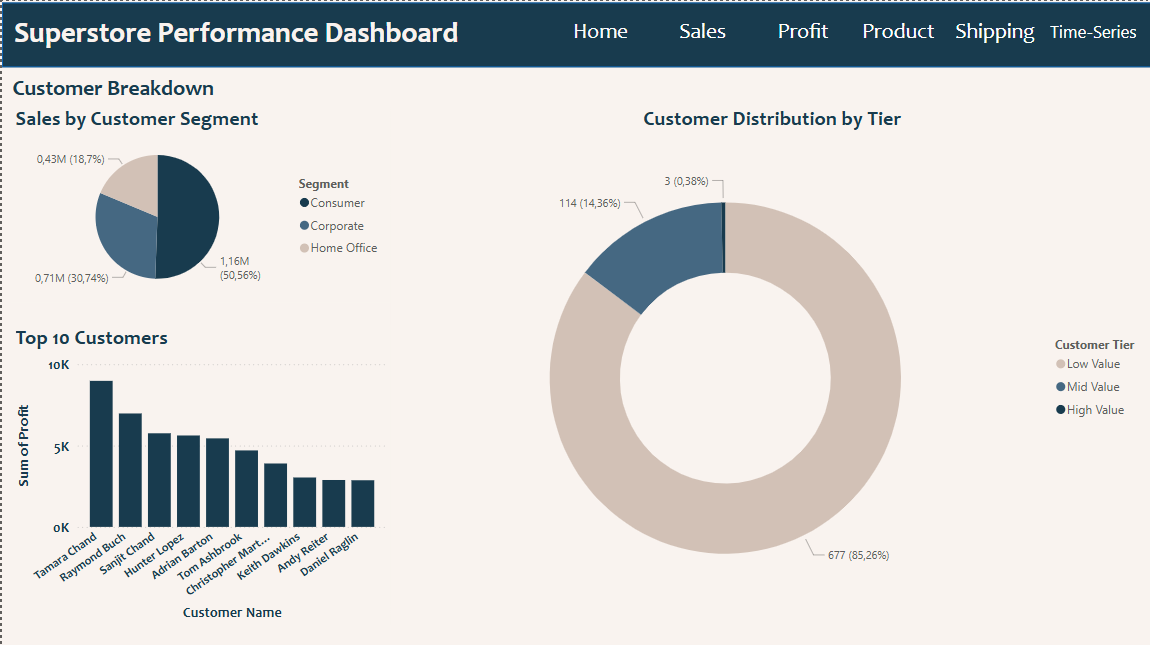

The dashboard page shown, as its layout file describes it:
{"tool":"powerbi","page":{"name":"Customer","canvas":[1280,720],"ordinal":3},"visuals":[{"type":"shape","box":[0,2,1280,72],"z":0},{"type":"textbox","box":[8,10,544,60],"z":1000},{"type":"actionButton","box":[606.7,13.3,116.7,40],"z":2000},{"type":"actionButton","box":[720,13.3,116.7,40],"z":3000},{"type":"actionButton","box":[835,13.3,110,40],"z":4000},{"type":"actionButton","box":[943.3,13.3,105,40],"z":5000},{"type":"actionButton","box":[1046.7,13.3,113.3,40],"z":6000},{"type":"actionButton","box":[1158.3,13.3,108.3,40],"z":7000},{"type":"textbox","box":[6.7,76.7,273.3,48.3],"z":8000},{"type":"pieChart","title":"Sales by Customer Segment","fields":{"Category":["dim_customer.Segment"],"Y":["fact_sales.Sales"]},"box":[10,116.7,421.7,218.3],"z":9000},{"type":"columnChart","title":"Top 10 Customers","fields":{"Category":["dim_customer.Customer Name"],"Y":["fact_sales.Profit"]},"box":[10,360,421.7,333.3],"z":10000},{"type":"donutChart","title":"Customer Distribution by Tier","fields":{"Category":["dim_customer.Customer Tier"],"Y":["dim_customer.Customer ID"]},"box":[431.7,116.7,848.3,576.7],"z":11000}]}

Visuals, with their boxes in screenshot pixels (x1, y1, x2, y2), scaled from the page's 1280x720 canvas onto the 1150x645 screenshot:
shape: bbox(0, 2, 1149, 66)
textbox: bbox(7, 9, 496, 63)
actionButton: bbox(545, 12, 650, 48)
actionButton: bbox(647, 12, 752, 48)
actionButton: bbox(750, 12, 849, 48)
actionButton: bbox(847, 12, 942, 48)
actionButton: bbox(940, 12, 1042, 48)
actionButton: bbox(1041, 12, 1138, 48)
textbox: bbox(6, 69, 252, 112)
"Sales by Customer Segment" pieChart: bbox(9, 105, 388, 300)
"Top 10 Customers" columnChart: bbox(9, 322, 388, 621)
"Customer Distribution by Tier" donutChart: bbox(388, 105, 1149, 621)
